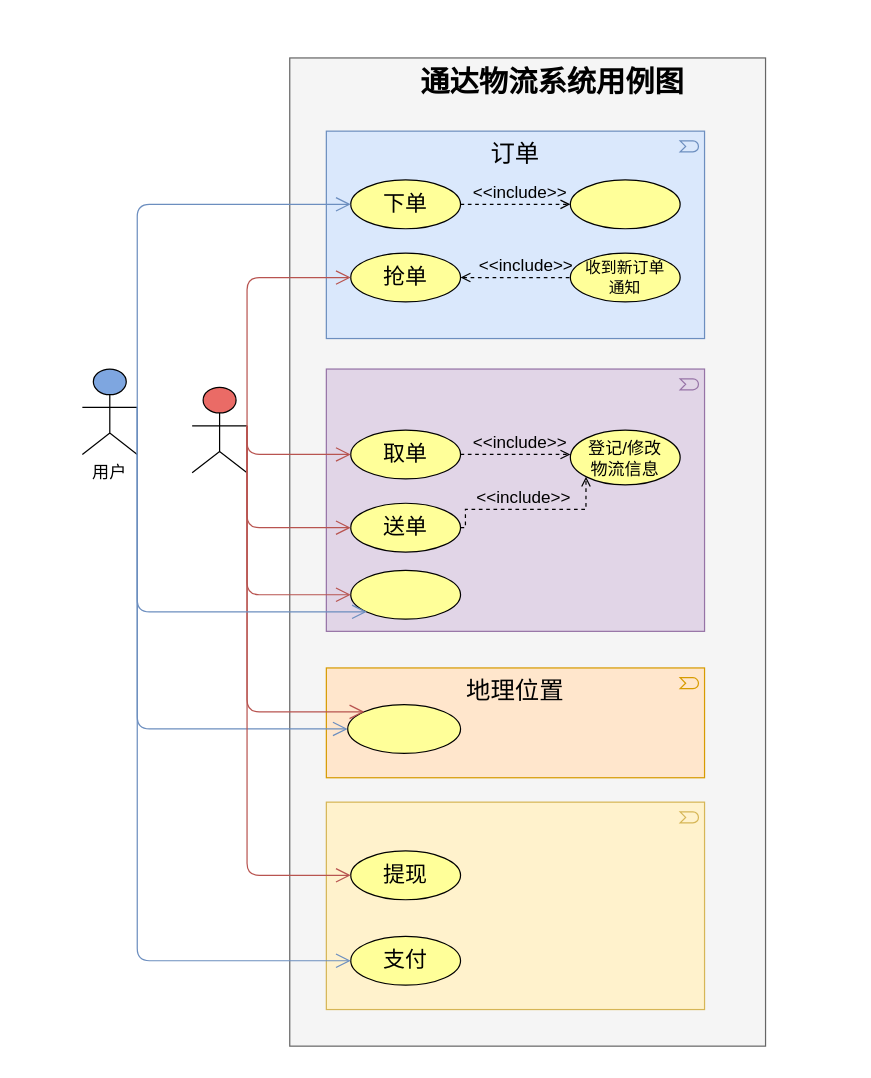
This 871x1078 diagram has some shape labels left out. Each missing label, with the box of its shape:
上报地理位置: (346, 703, 461, 753)
发送新订单 通知: (569, 179, 680, 229)
快递员: (191, 386, 247, 473)
查询: (350, 569, 461, 619)
物流: (325, 368, 705, 631)
财务: (325, 801, 705, 1010)
